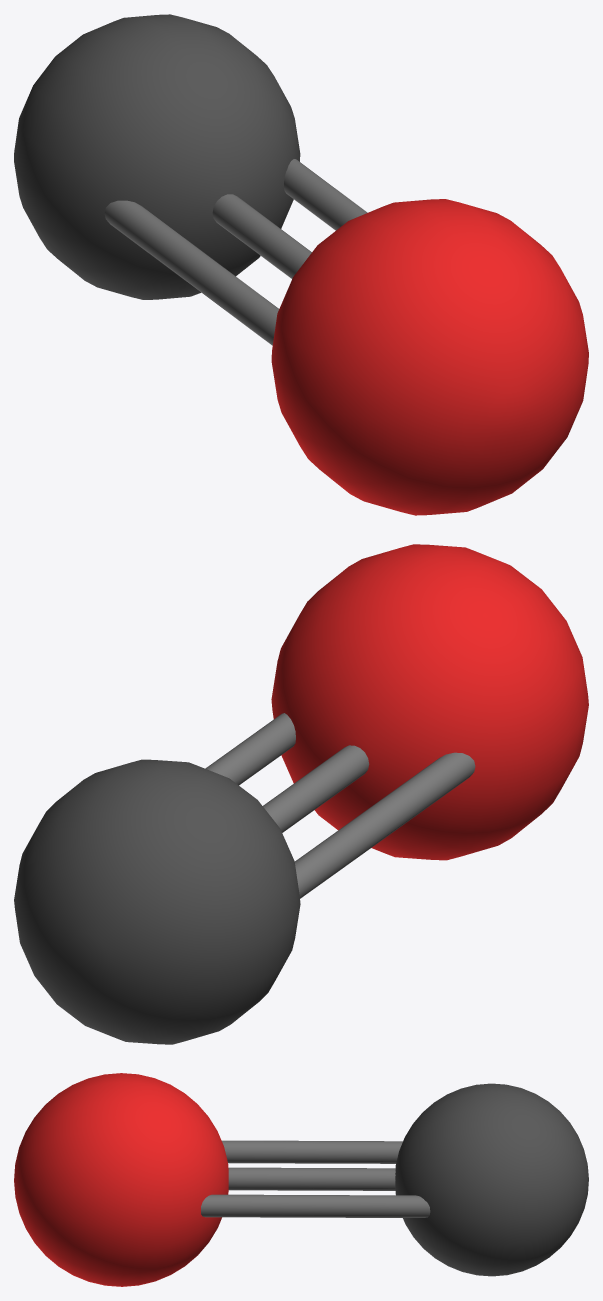
The picture shows the model from 3 angles, top to bottom: view 1: azimuth 30°, elevation 25°; view 2: azimuth 150°, elevation 25°; view 3: azimuth 270°, elevation 25°; orthographic projection. The views are drawn at different scales.
Visible parts, largest first — view 1: CO; view 2: CO; view 3: CO.
Part boxes in pixels (bbox=[...]): CO: bbox=[14, 14, 588, 515]; CO: bbox=[14, 544, 588, 1044]; CO: bbox=[14, 1073, 588, 1286].
Bounding box in the file's own units: 1.85 × 1.85 × 4.93.
